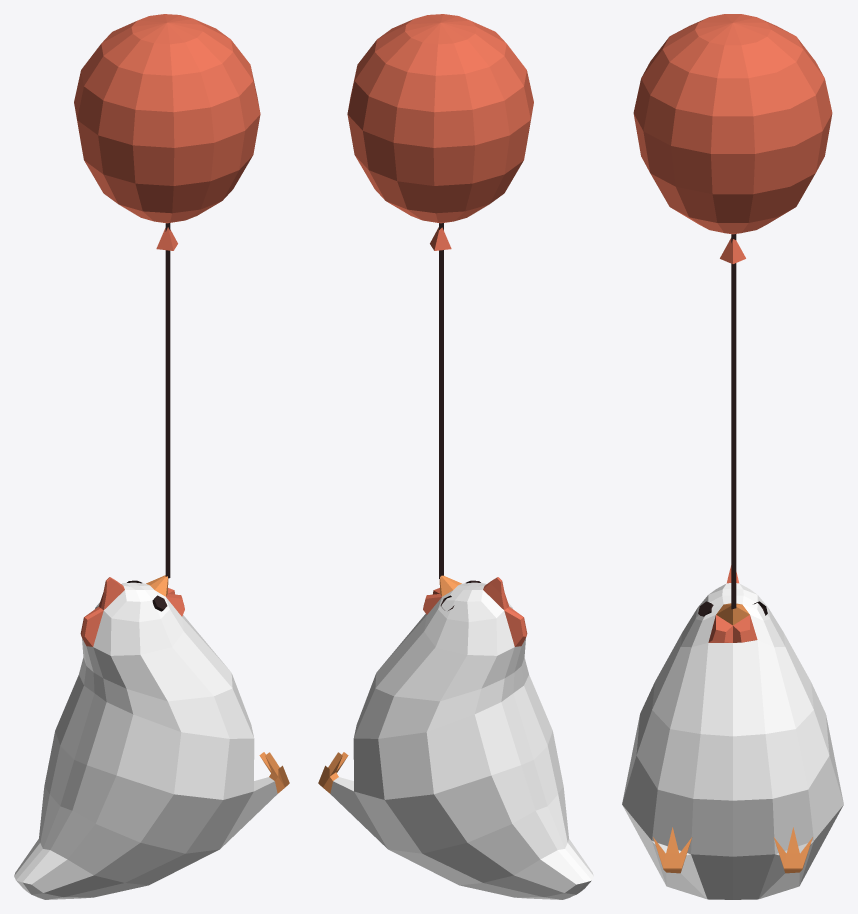
The model's file is chicken_balloon.glb.
3 renders of one model, left to right at view 1: azimuth 30°, elevation 25°; view 2: azimuth 150°, elevation 25°; view 3: azimuth 270°, elevation 25°, orthographic. The views are drawn at different scales.
Visible parts, largest first — view 1: Cube, Sphere; view 2: Cube, Sphere; view 3: Cube, Sphere.
Part boxes in pixels (x1,y1,x2,y2): Cube: [14, 575, 289, 899]; Sphere: [74, 14, 260, 578]; Cube: [318, 575, 593, 899]; Sphere: [347, 14, 533, 578]; Cube: [622, 565, 843, 899]; Sphere: [633, 14, 832, 609].
Bounding box in the file's own units: 2.95 × 9.94 × 2.23.
1 material, 1 textured.
